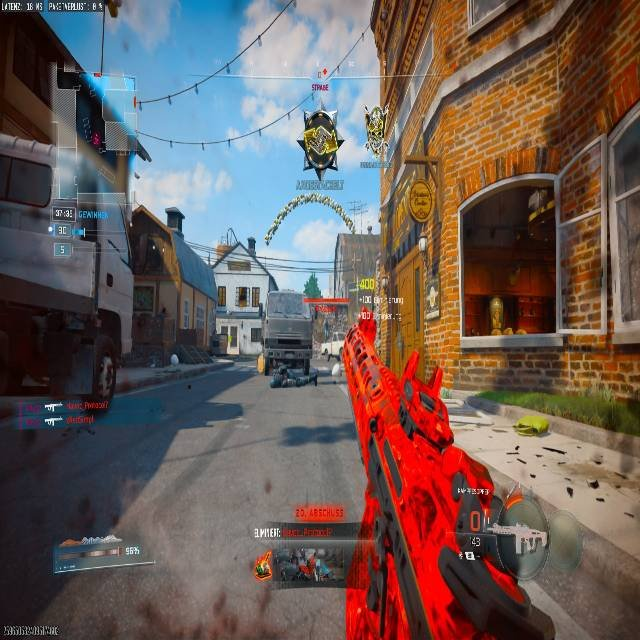player: (299, 109, 342, 178)
